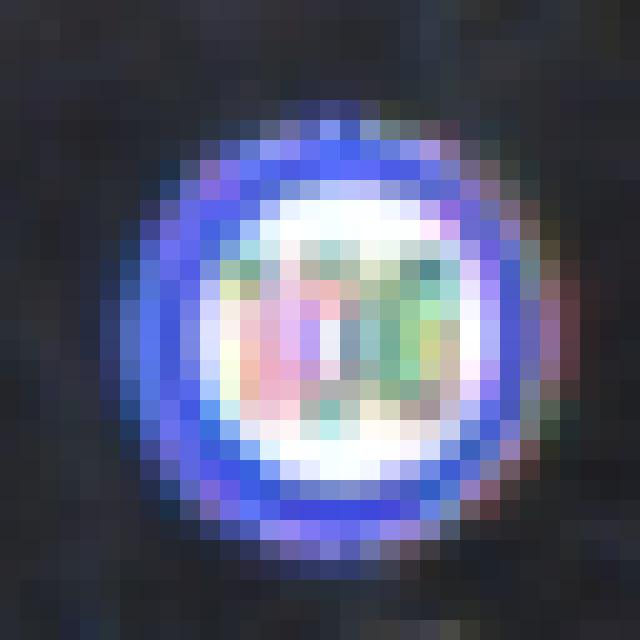SPEED LIMIT 100: (117, 132, 549, 558)
